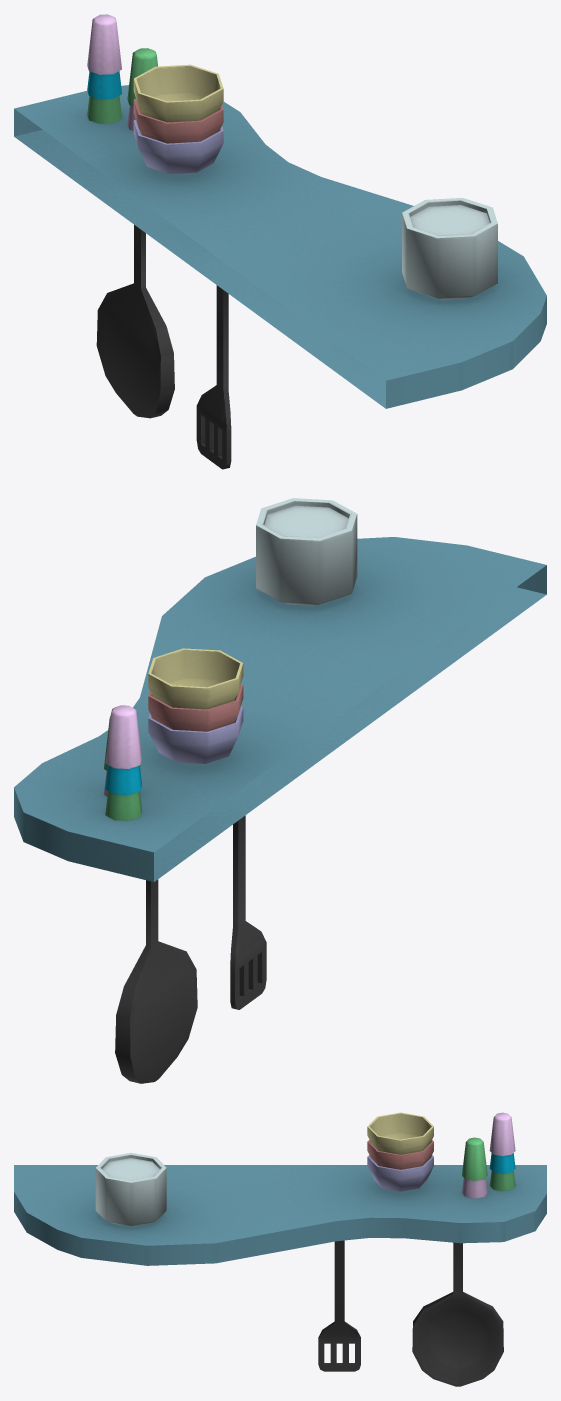
The model's file is Prop_092_Kshelf.fbx.
3 renders of one model, top to bottom at view 1: azimuth 30°, elevation 25°; view 2: azimuth 150°, elevation 25°; view 3: azimuth 270°, elevation 25°, orthographic. The views are drawn at different scales.
Parts seen in each view (by area): view 1: Prop_092_Kshelf; view 2: Prop_092_Kshelf; view 3: Prop_092_Kshelf.
Part boxes in pixels (x1,y1,x2,y2): Prop_092_Kshelf: [14, 14, 546, 469]; Prop_092_Kshelf: [14, 498, 546, 1083]; Prop_092_Kshelf: [14, 1112, 546, 1386].
Size of the model in its own units: 0.971 by 1.5 by 2.71.
1 material, 1 textured.
